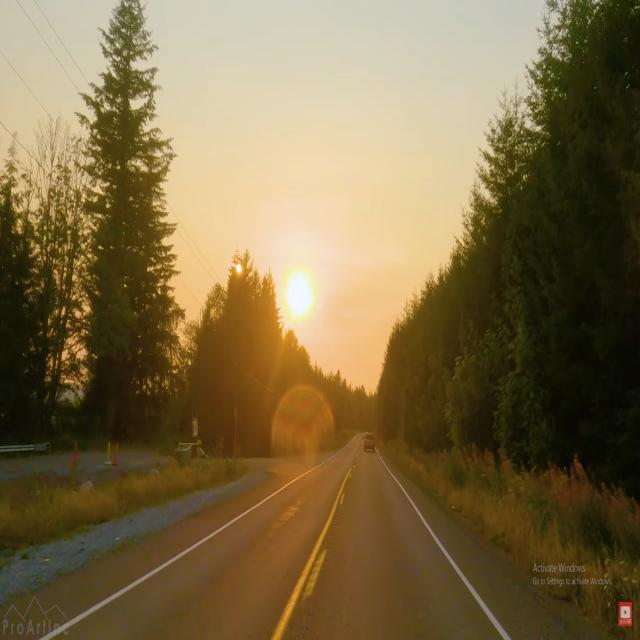sun: (282, 251, 318, 329)
